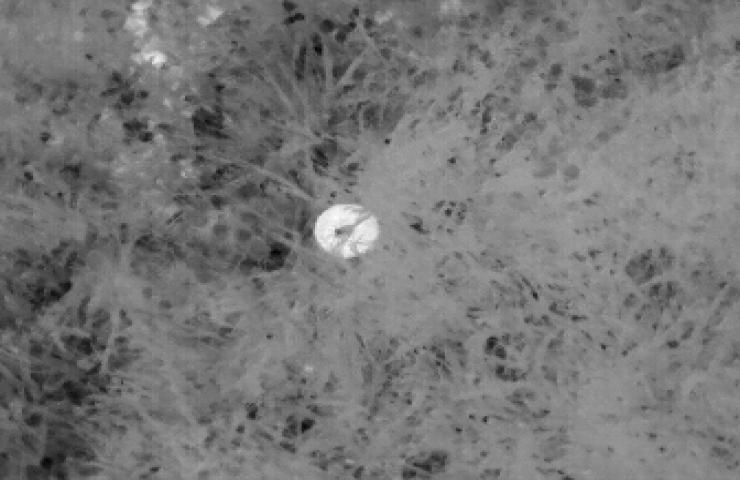landmines: (312, 200, 386, 260)
